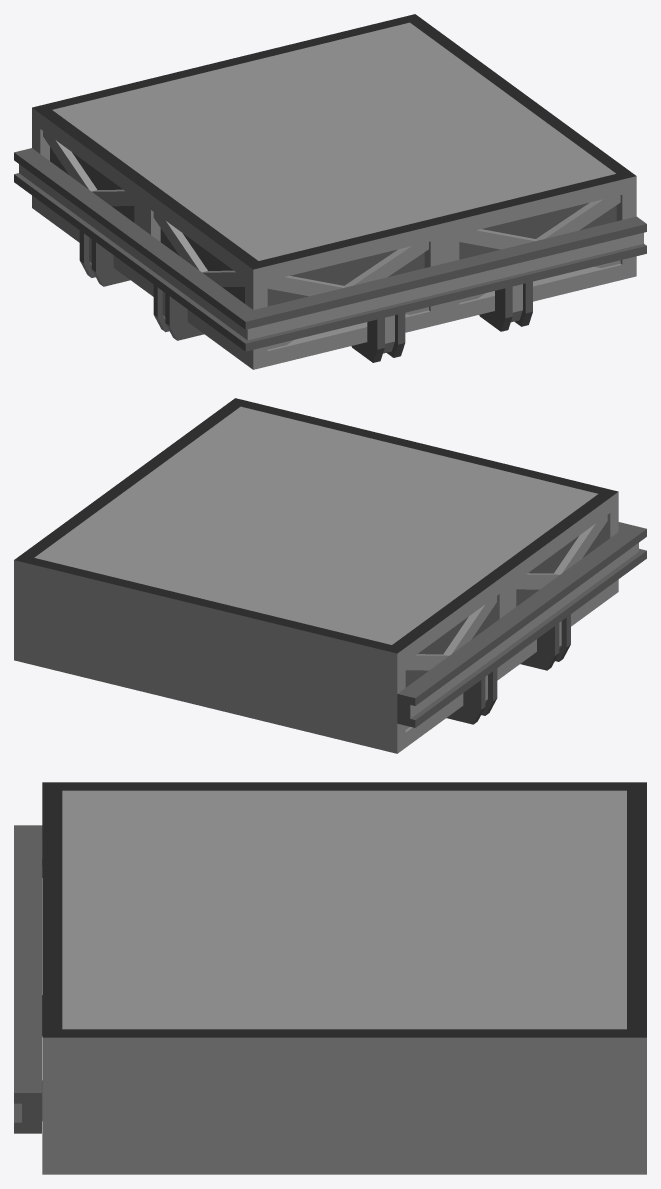
File: Platform_Corner_02.FBX
3 views of the same model, one above another, from view 1: azimuth 30°, elevation 25°; view 2: azimuth 150°, elevation 25°; view 3: azimuth 270°, elevation 25° (orthographic). The views are drawn at different scales.
Parts seen in each view (by area): view 1: Platform_Corner_02_LOD0, Platform_Deco_02_Coner_LOD0; view 2: Platform_Corner_02_LOD0, Platform_Deco_02_Coner_LOD0; view 3: Platform_Corner_02_LOD0, Platform_Deco_02_Coner_LOD0.
Part boxes in pixels (<box>): Platform_Corner_02_LOD0: <box>32,14,636,369</box>; Platform_Deco_02_Coner_LOD0: <box>14,148,646,362</box>; Platform_Corner_02_LOD0: <box>14,398,618,753</box>; Platform_Deco_02_Coner_LOD0: <box>397,522,646,727</box>; Platform_Corner_02_LOD0: <box>42,782,646,1174</box>; Platform_Deco_02_Coner_LOD0: <box>14,825,42,1133</box>.
Size of what is drawn, in the model's own units: 188 by 52.4 by 188.
